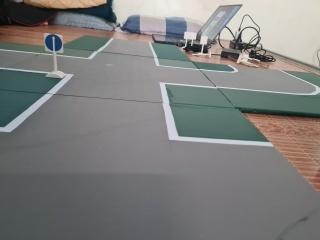straight: (41, 29, 65, 53)
